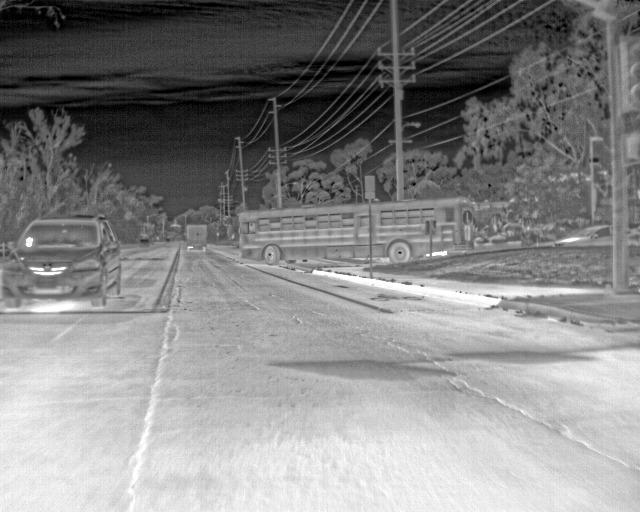car: (238, 196, 475, 265), (11, 214, 122, 306), (554, 225, 612, 247), (186, 224, 207, 252), (139, 238, 150, 249), (166, 238, 170, 243)
light: (626, 42, 639, 108), (626, 132, 639, 160)
sign: (365, 176, 375, 191), (426, 221, 436, 235), (463, 210, 472, 224), (591, 188, 596, 213), (464, 225, 471, 241), (365, 191, 375, 199)
